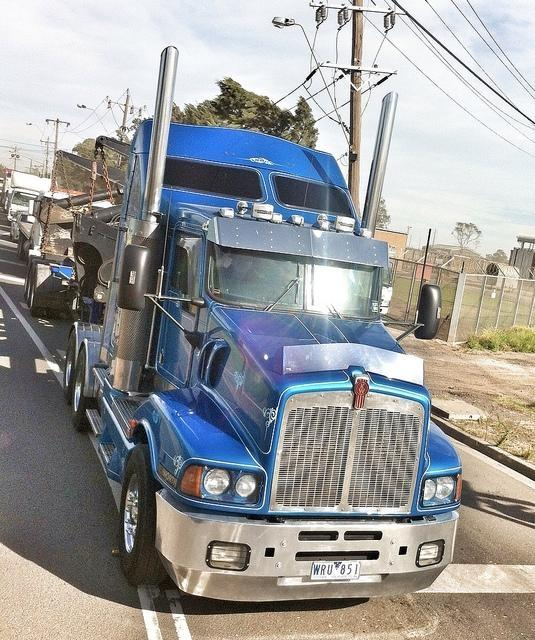truck: (71, 44, 464, 598), (8, 172, 52, 248)
